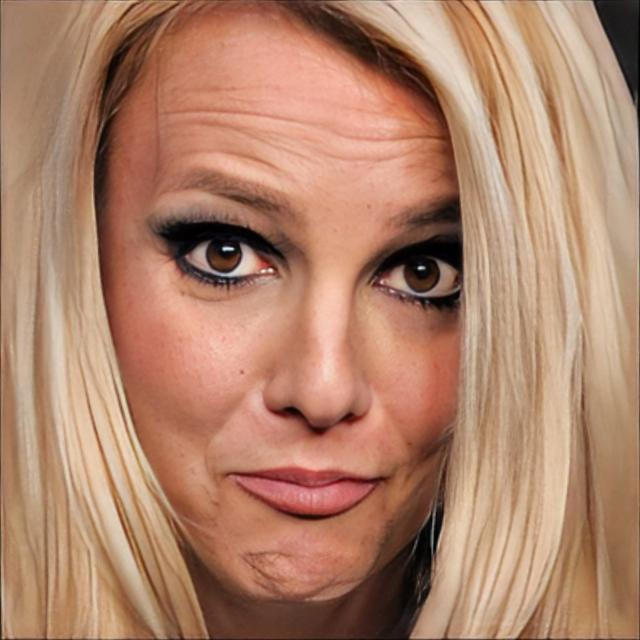content: (91, 0, 462, 608)
